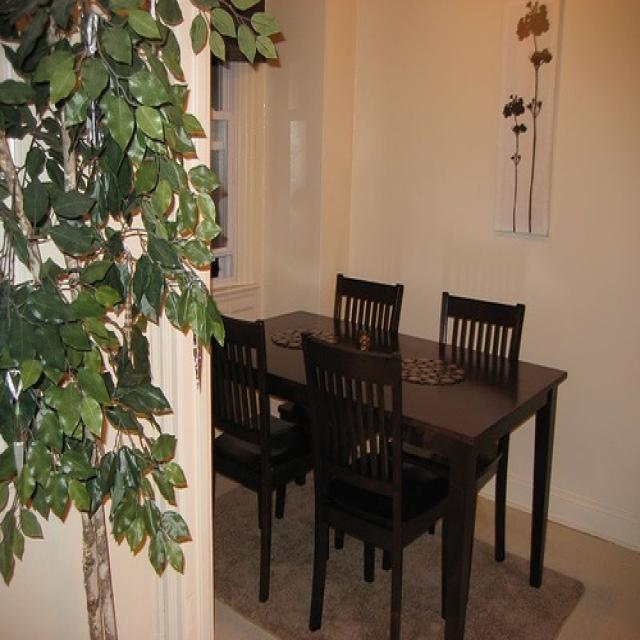chair: (296, 324, 456, 633), (214, 309, 339, 596), (437, 287, 526, 563), (333, 270, 403, 332)
diningtable: (218, 311, 568, 638)
pottedplant: (0, 0, 282, 637)
